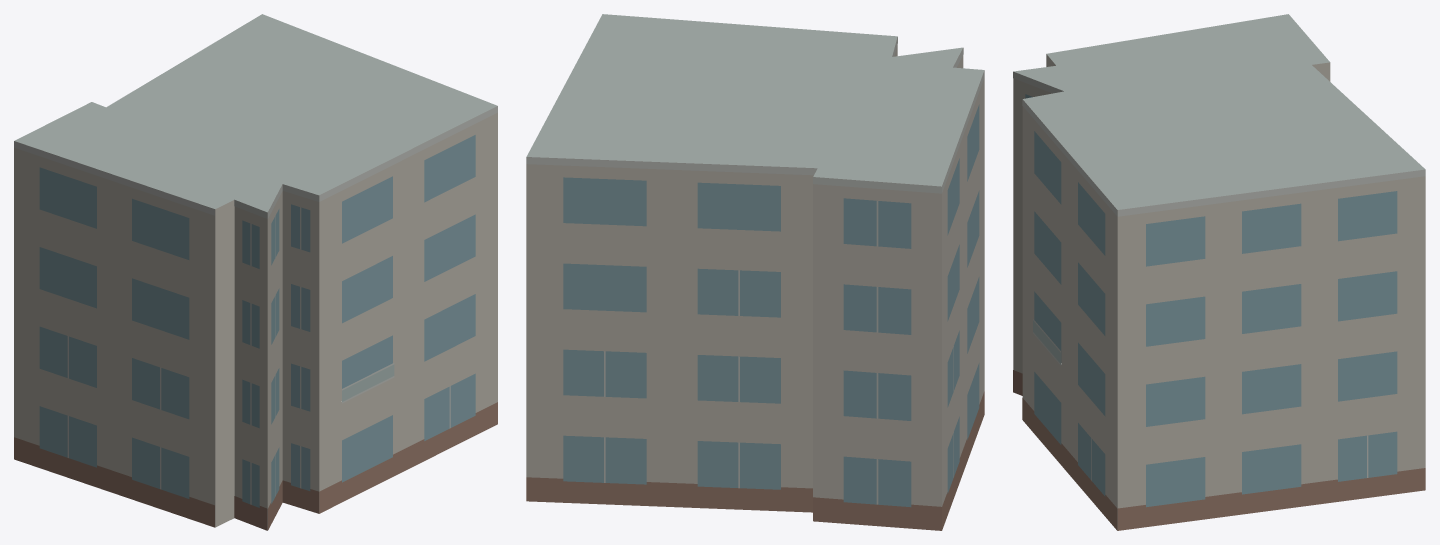
The model's file is survey-upis-32856586.glb.
3 views of the same model, side by side, from view 1: azimuth 30°, elevation 25°; view 2: azimuth 150°, elevation 25°; view 3: azimuth 270°, elevation 25° (orthographic). The views are drawn at different scales.
Parts seen in each view (by area): view 1: survey-upis-32856586.tmp; view 2: survey-upis-32856586.tmp; view 3: survey-upis-32856586.tmp.
Part boxes in pixels (<box>): survey-upis-32856586.tmp: <box>14,14,497,530</box>; survey-upis-32856586.tmp: <box>526,14,984,530</box>; survey-upis-32856586.tmp: <box>1013,14,1425,530</box>.
Size of the model in its own units: 15.35 by 11.7 by 13.64.
